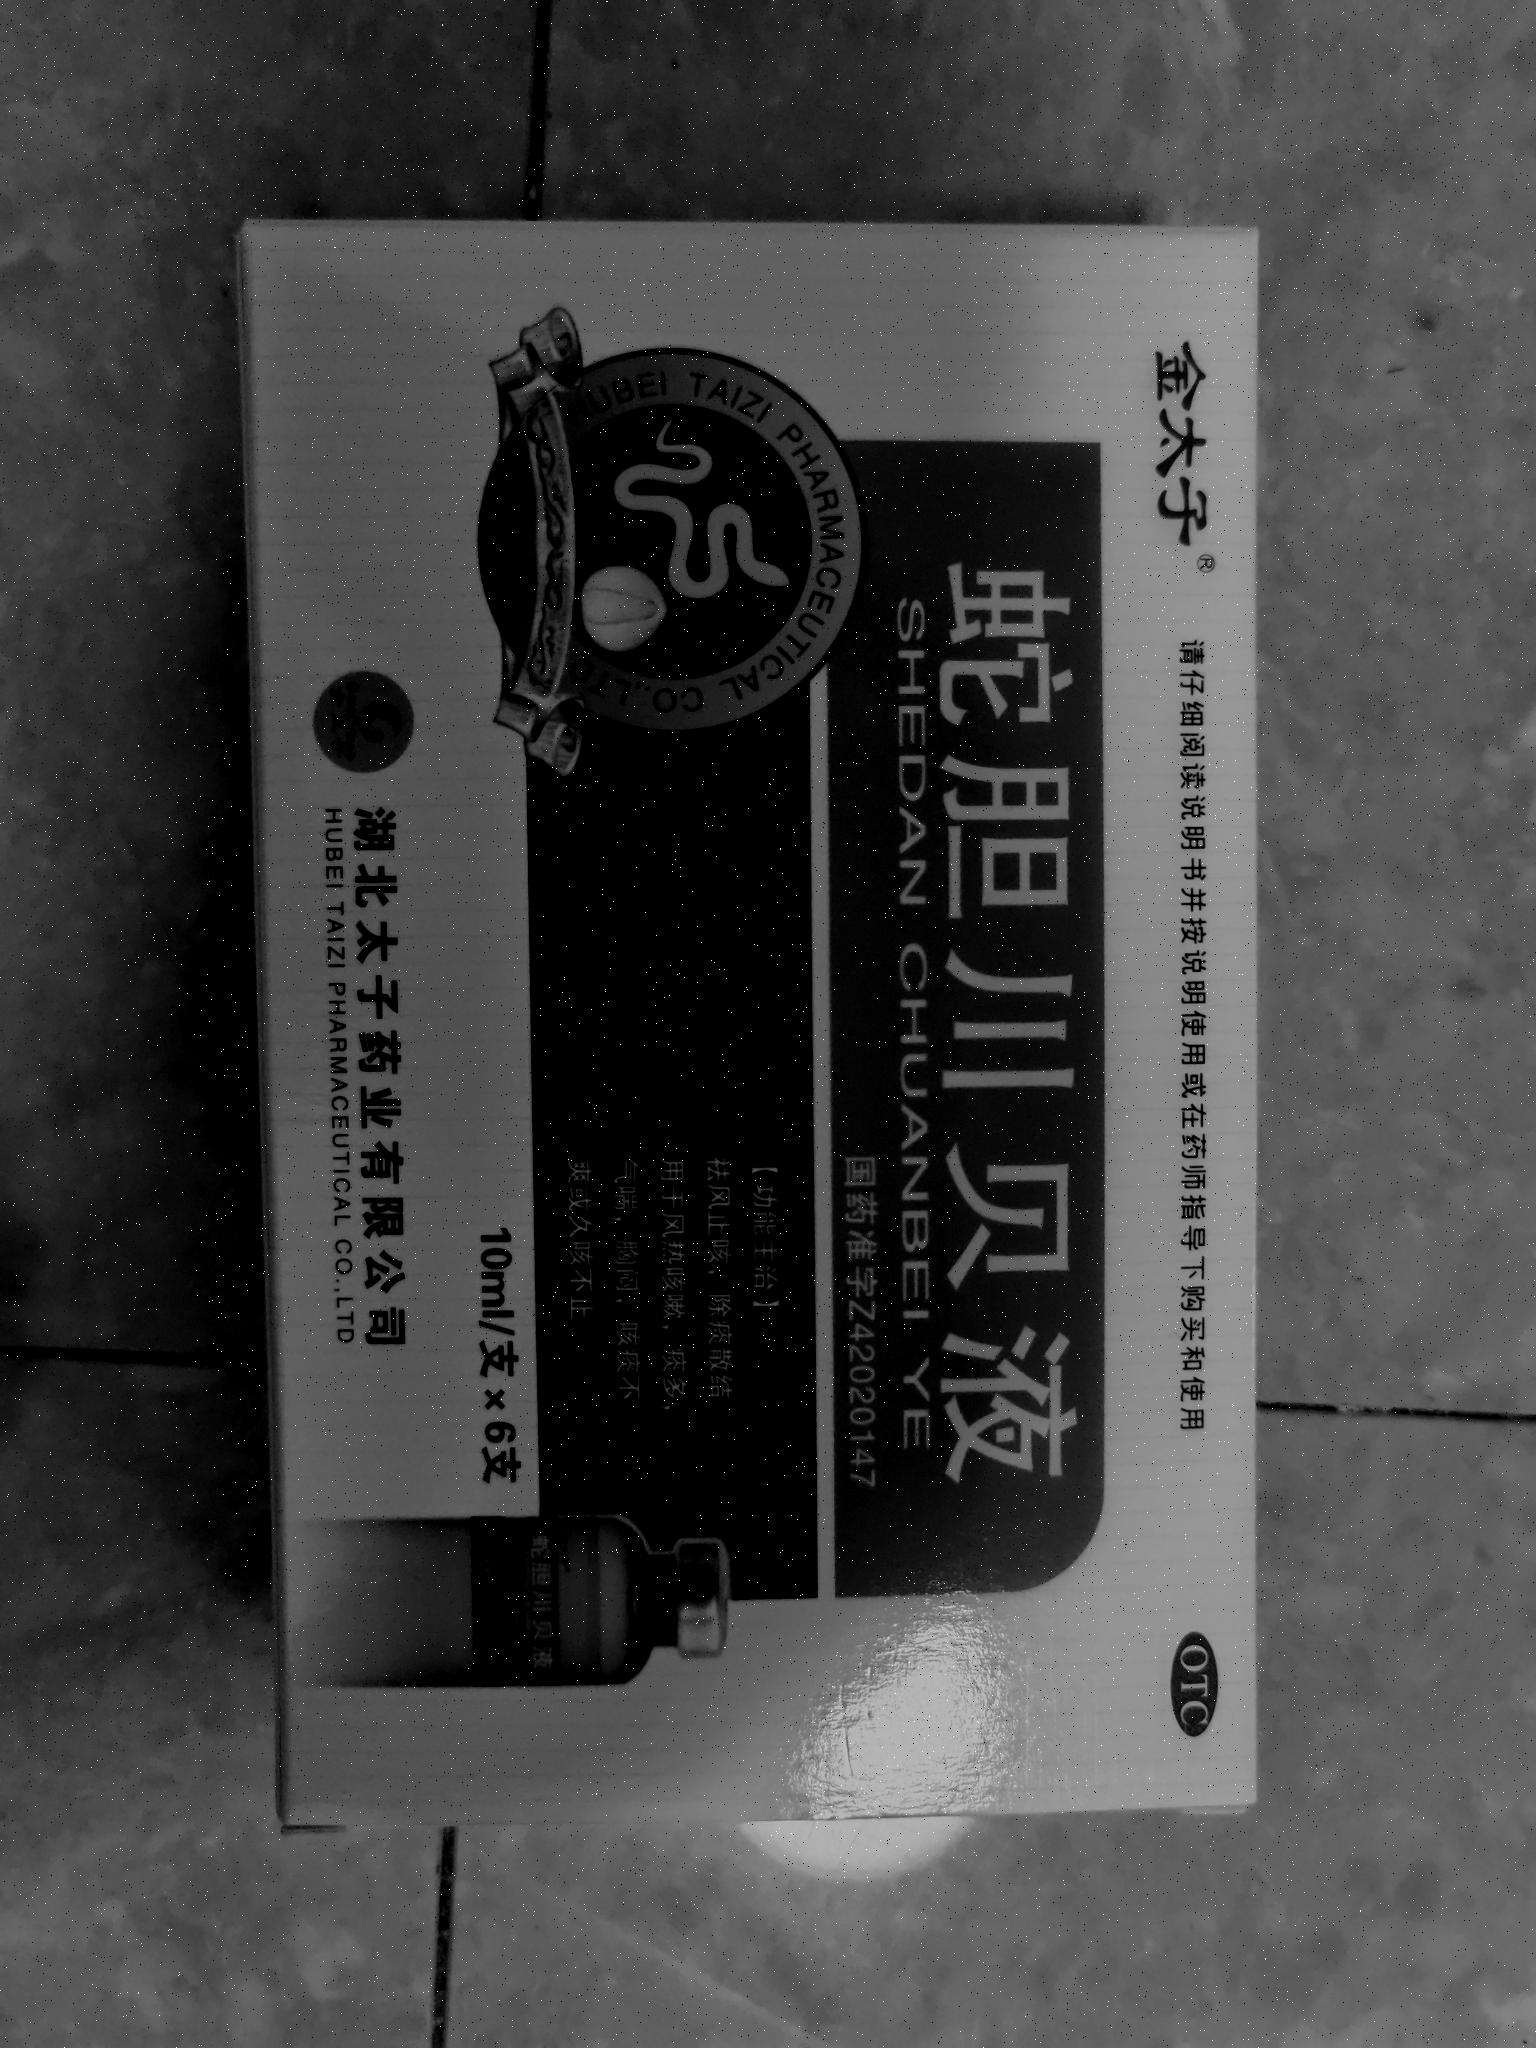Medicine5: (210, 187, 1294, 1858)
